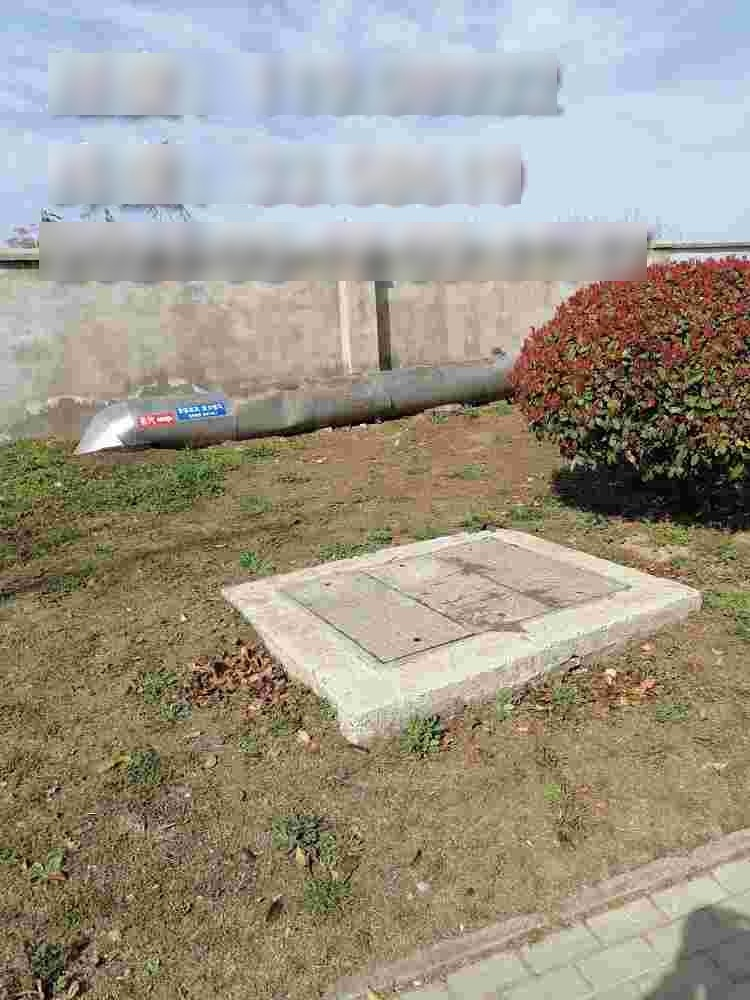good: (273, 535, 636, 670)
